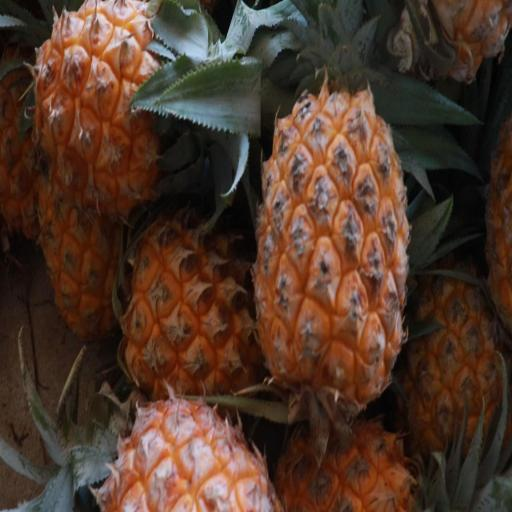Pineapple - v8 v1: (250, 74, 413, 438), (22, 0, 232, 220), (114, 192, 270, 410), (394, 227, 512, 465), (91, 381, 293, 512)
